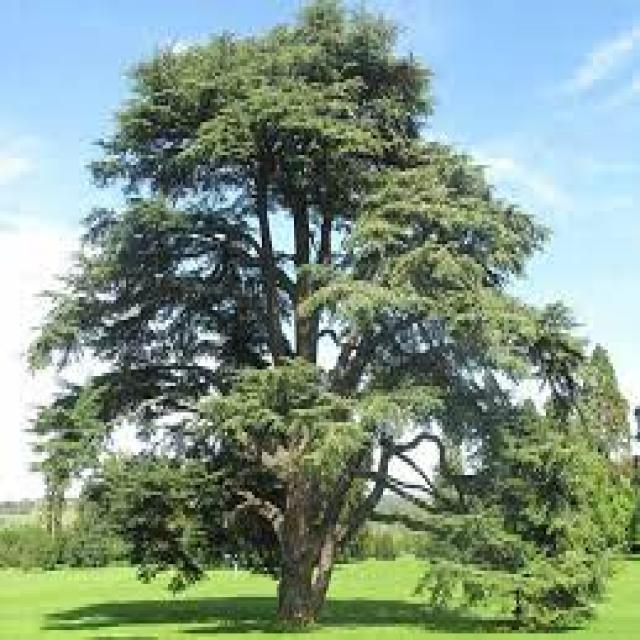cedro: (13, 0, 634, 630)
